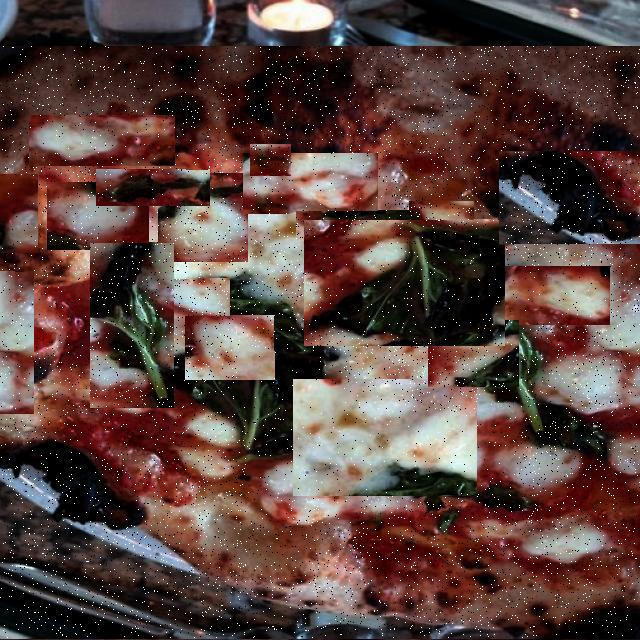Basil: (304, 220, 505, 346), (90, 243, 174, 410), (499, 152, 640, 244), (343, 347, 478, 411), (243, 154, 378, 214), (207, 176, 287, 243), (96, 170, 210, 206), (34, 232, 110, 280), (296, 211, 420, 238), (250, 145, 291, 176), (186, 146, 208, 174)
Cheese: (23, 336, 205, 466), (293, 380, 477, 498), (245, 435, 375, 520), (158, 174, 248, 262), (419, 396, 514, 478), (29, 116, 175, 166), (488, 267, 612, 325), (238, 351, 339, 419), (47, 183, 149, 250), (428, 320, 519, 387), (15, 268, 114, 327), (186, 316, 276, 380), (0, 272, 34, 414), (148, 279, 230, 335), (110, 246, 198, 298), (382, 234, 458, 277), (0, 175, 38, 253), (409, 202, 474, 242)
Pizza: (0, 47, 640, 638)
